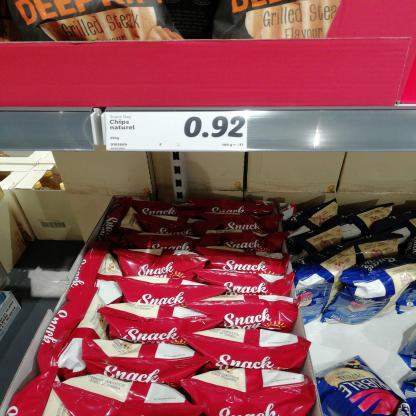prtg: (107, 112, 249, 153)
